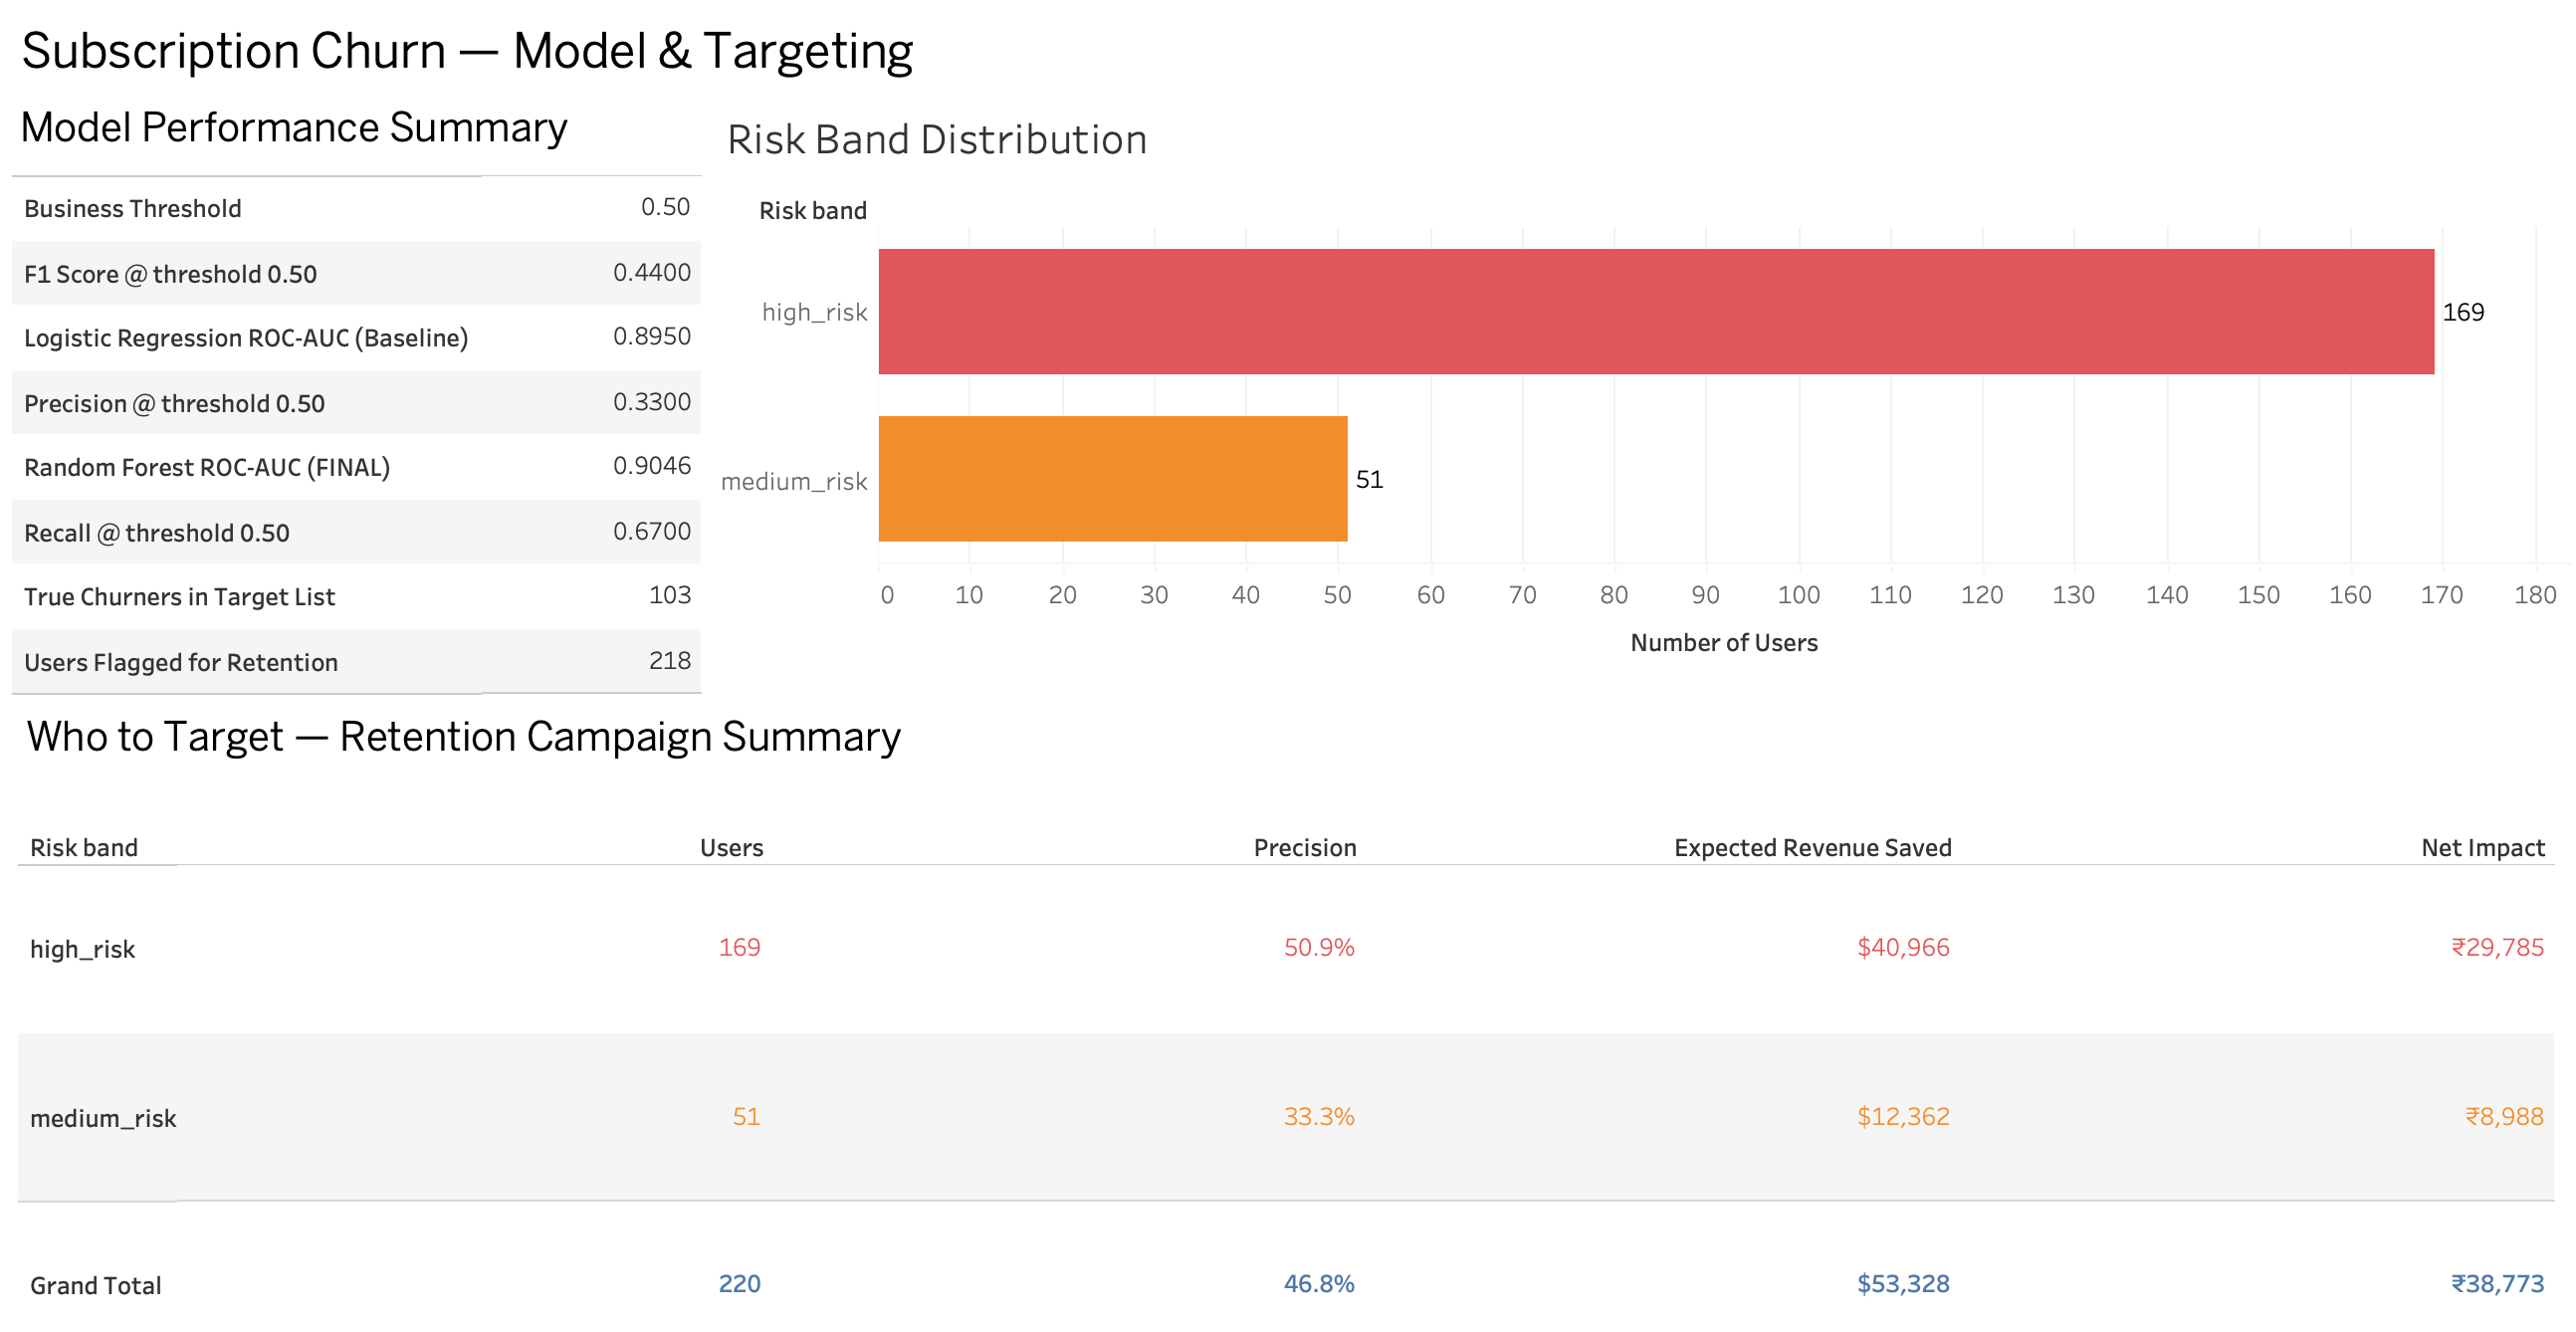

Layout of this report page (visuals, bound fields, positions):
{"tool":"tableau","page":{"name":"Model & Targeting","canvas":[1000,1000],"units":"permille","ordinal":3},"visuals":[{"type":"title","box":[6.2,11.5,987.7,55.9]},{"type":"worksheet","title":"Model Performance","mark":"Text","box":[4.6,64.5,272.9,444.1]},{"type":"worksheet","title":"Risk Band Distribution","mark":"Bar","rows":["risk_band"],"cols":["user_id (targeting_list.csv)"],"box":[277.5,70.2,721.8,422.6]},{"type":"worksheet","title":"Who to Target","mark":"Automatic","rows":["risk_band"],"box":[6.9,502.9,986.2,492.8]}]}

Visuals, with their boxes on the dashboard's canvas, which has no fixed pixel size, in thousandths of its width and height (x1, y1, x2, y2). These are canvas units, not pixel positions in the 2576x1332 screenshot, which may show the page scaled, cropped or inside an application window:
title: (left=6, top=12, right=994, bottom=67)
"Model Performance" worksheet (Text marks): (left=5, top=64, right=278, bottom=509)
"Risk Band Distribution" worksheet (Bar marks): (left=278, top=70, right=999, bottom=493)
"Who to Target" worksheet: (left=7, top=503, right=993, bottom=996)
